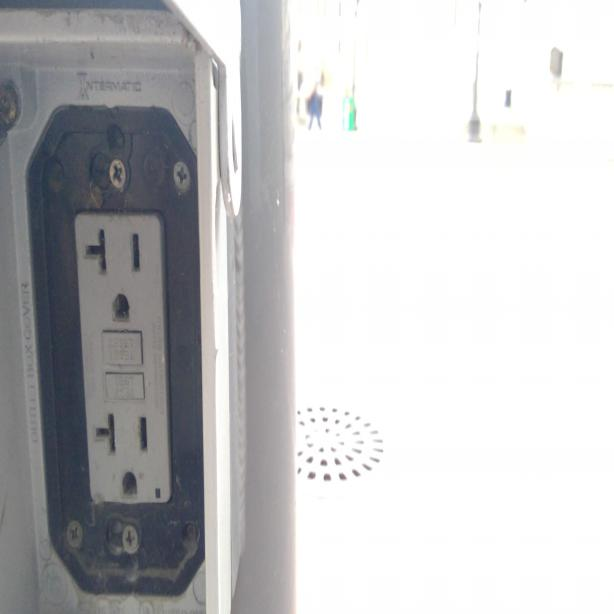typeb: (85, 386, 155, 504), (79, 218, 154, 328)
